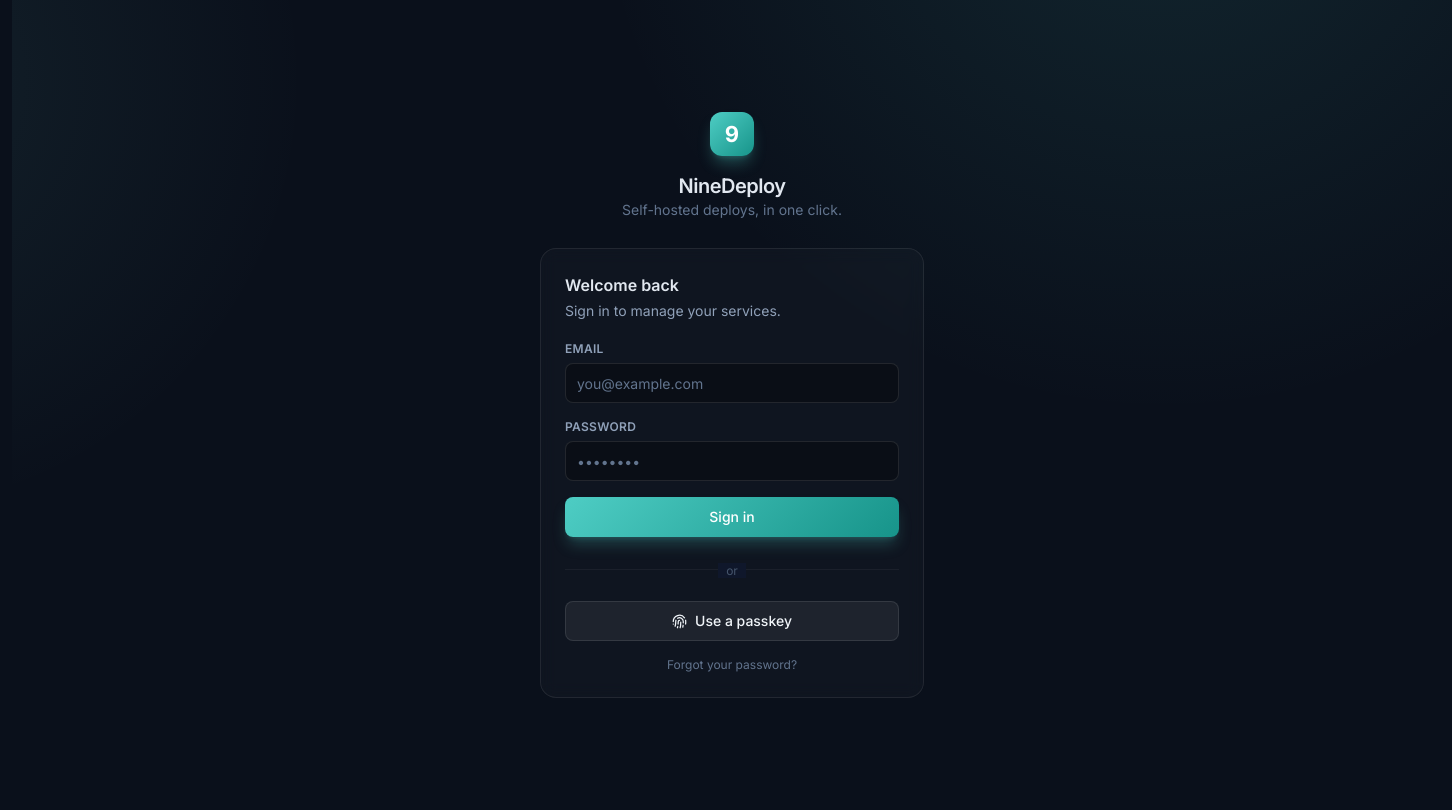
Login › logs in and navigates to the from location
In the field with placeholder "you@example.com": [732, 383] box x1=565 y1=363 x2=899 y2=403, type "a@b.c"
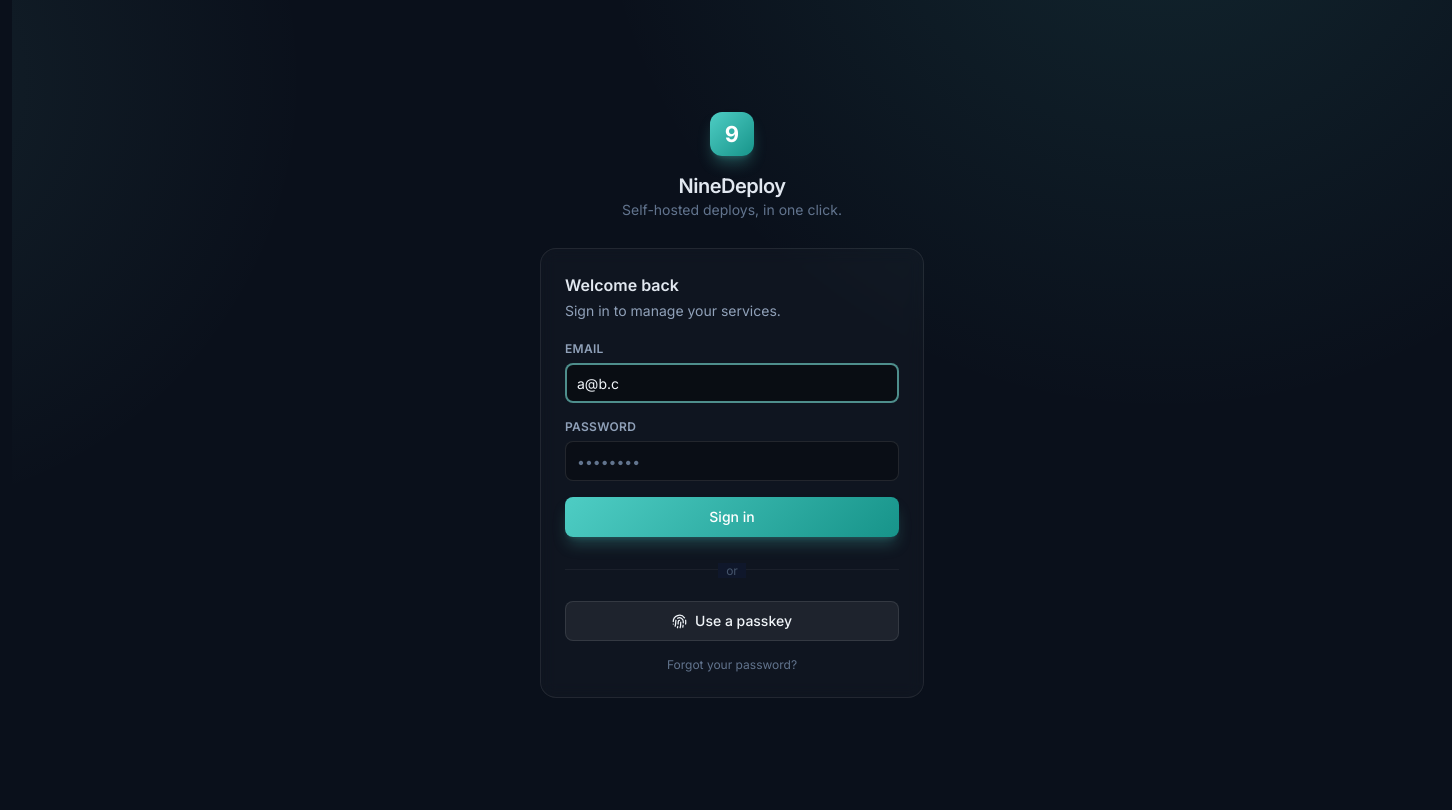
In the password field with placeholder "••••••••": [732, 461] box x1=565 y1=441 x2=899 y2=481, type "secret"
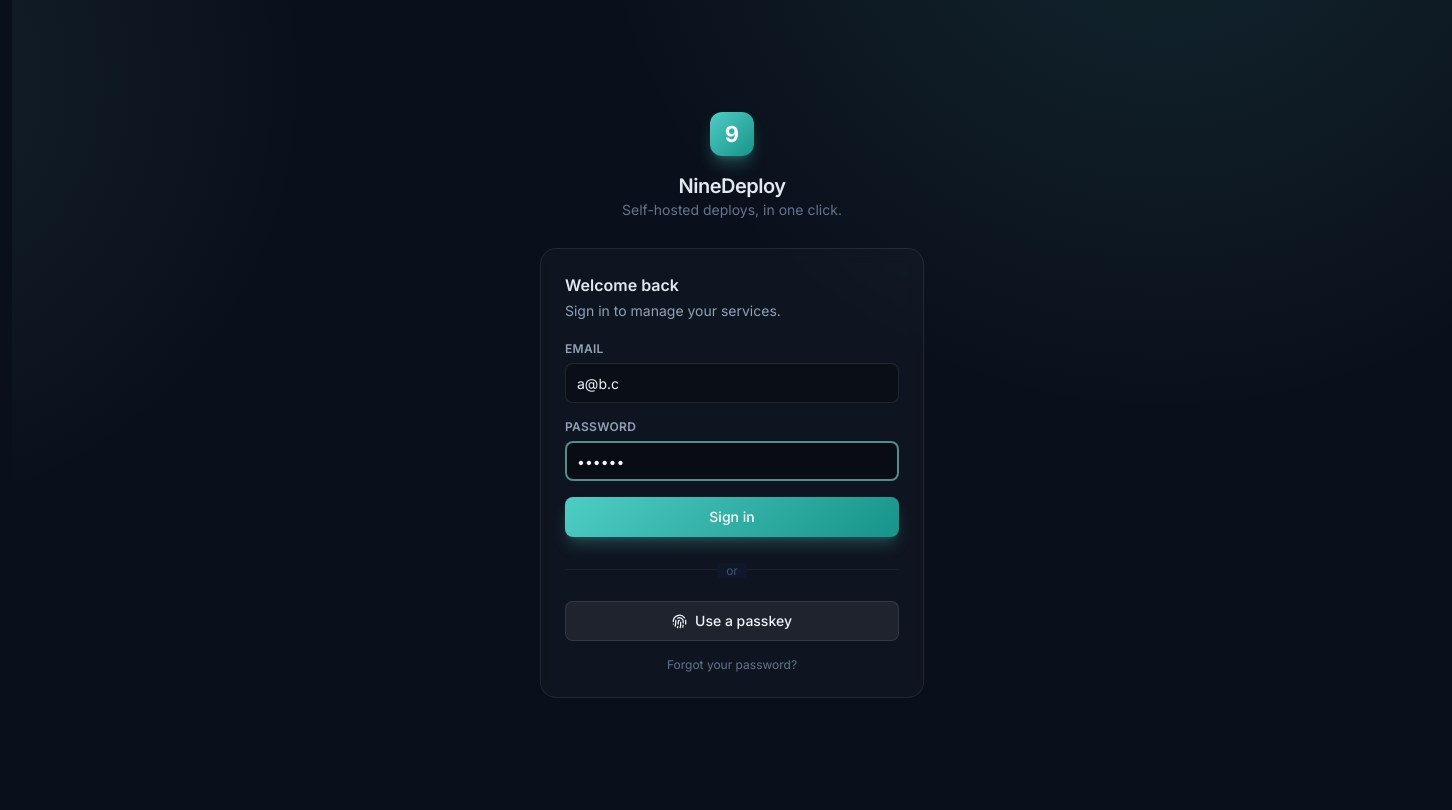
Click the button "Sign in": [732, 517] box x1=565 y1=497 x2=899 y2=537
(page scrolled)
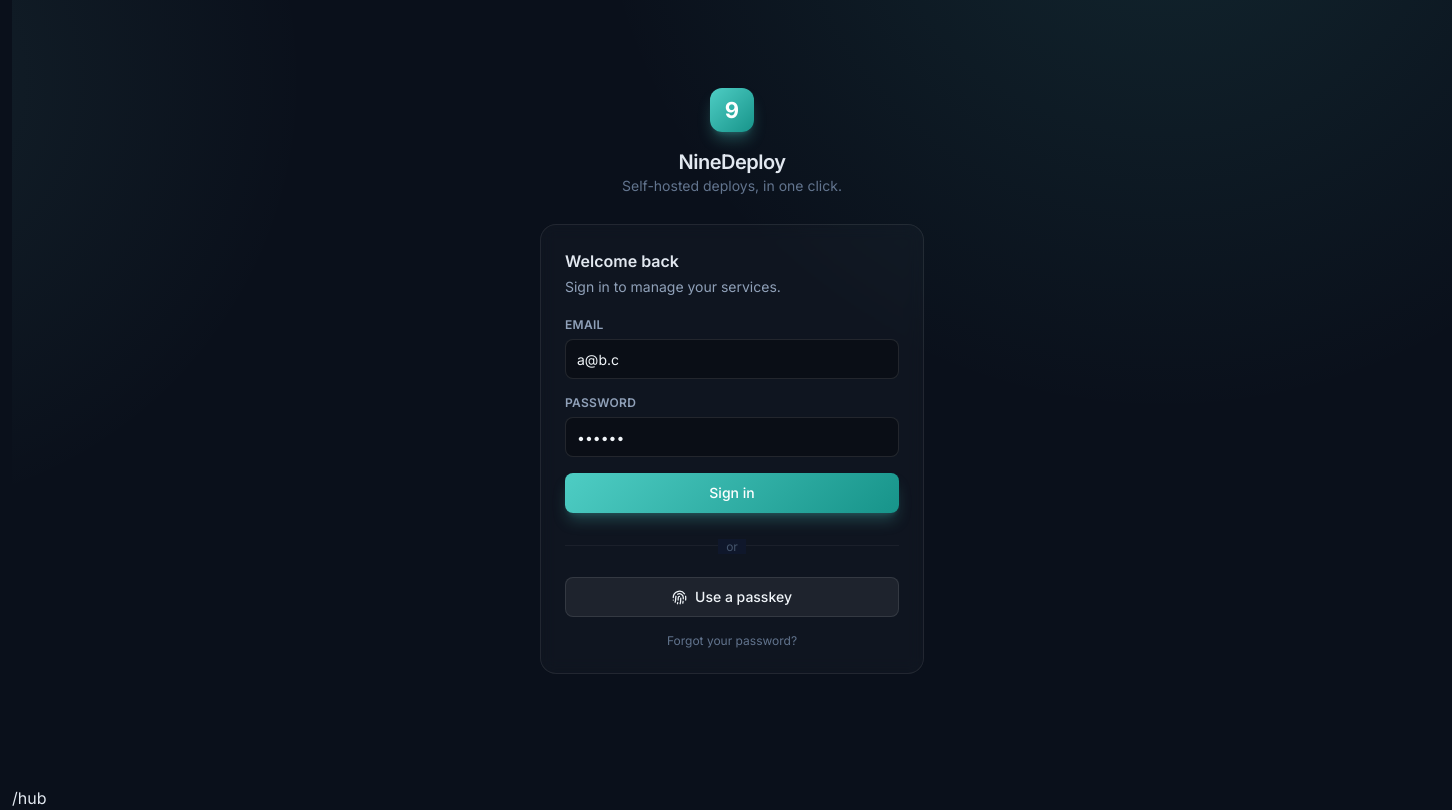
Expected: the text with test id "location" reads "/hub", x1=12 y1=788 x2=46 y2=808
